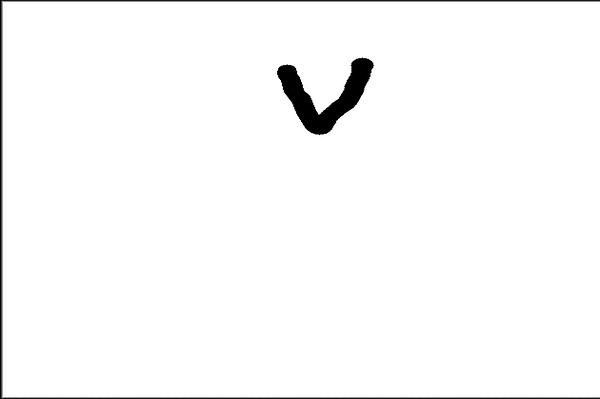V: (270, 33, 382, 143)
